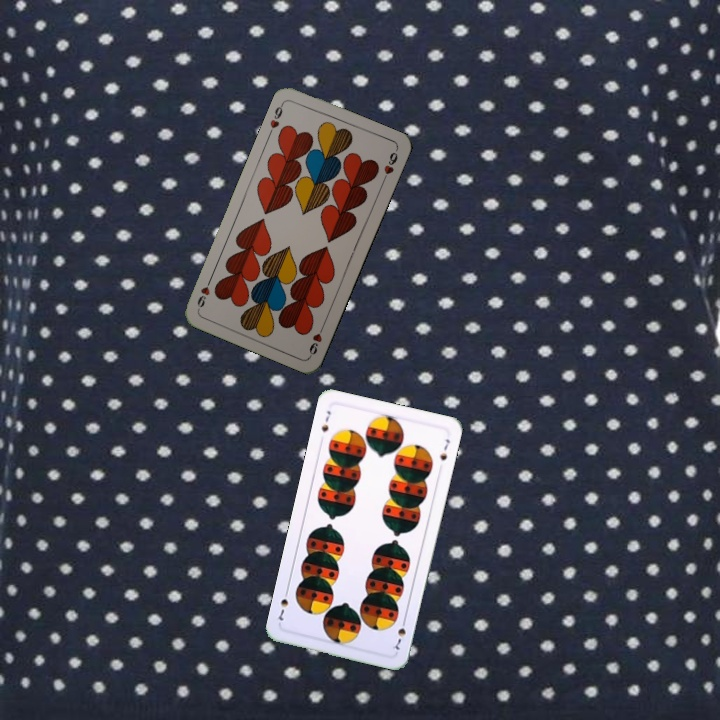H9: (305, 320, 327, 359), (265, 98, 286, 137)
S7: (389, 614, 409, 652), (317, 406, 333, 434)
